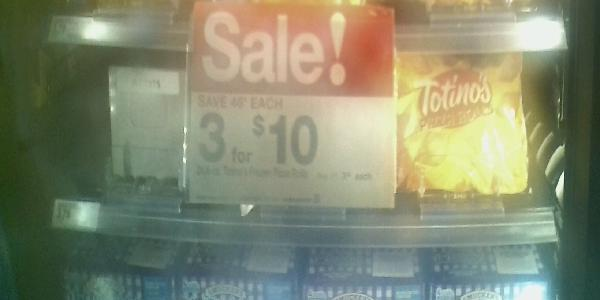icecream: (393, 54, 533, 198)
